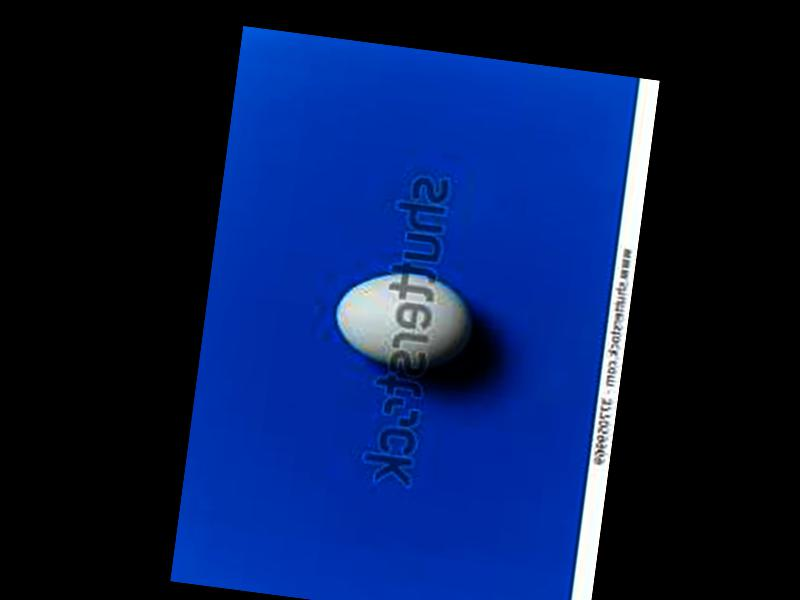Eggs: (326, 266, 477, 375)
